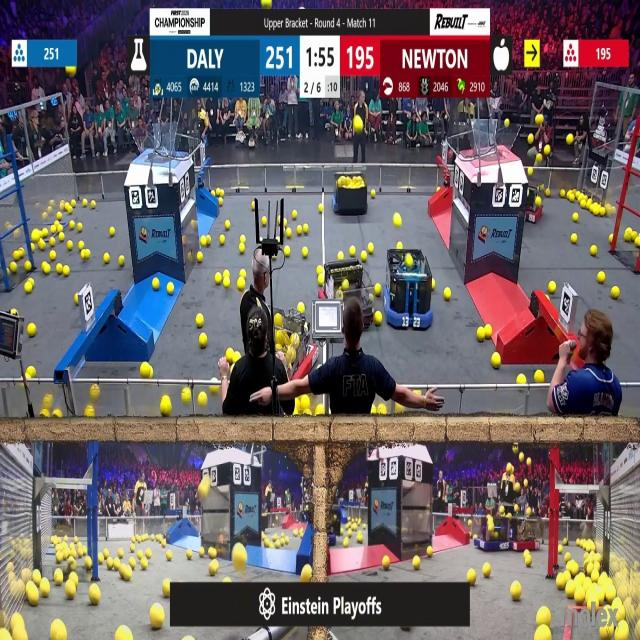ball_airborne: (354, 116, 364, 132), (200, 483, 210, 499), (566, 134, 573, 146), (534, 114, 542, 124), (264, 0, 272, 9), (528, 134, 534, 145), (538, 118, 545, 127), (543, 145, 549, 155), (519, 453, 525, 463), (516, 484, 522, 493), (536, 153, 542, 162), (528, 167, 533, 177), (507, 463, 512, 472), (526, 458, 532, 465), (504, 119, 508, 128), (516, 504, 520, 512), (524, 481, 528, 488), (500, 506, 504, 512)
ball_ground: (90, 586, 102, 606), (536, 609, 549, 627), (302, 564, 313, 583), (162, 398, 172, 418), (512, 583, 522, 601), (140, 362, 151, 377), (181, 388, 191, 404), (66, 583, 76, 599), (40, 582, 50, 598), (162, 580, 170, 598), (198, 392, 208, 406), (574, 590, 583, 605), (467, 568, 475, 584), (209, 561, 218, 575), (200, 334, 208, 349), (56, 569, 64, 584), (492, 353, 500, 368), (534, 371, 543, 384), (484, 563, 492, 577), (606, 588, 614, 602), (393, 213, 401, 227), (28, 323, 36, 336), (611, 286, 619, 299), (414, 556, 421, 570), (383, 556, 390, 570), (225, 348, 232, 362), (374, 313, 382, 325), (86, 557, 94, 569), (525, 554, 532, 567), (238, 279, 246, 290), (209, 548, 217, 559), (32, 231, 40, 242), (70, 571, 78, 582), (375, 284, 382, 296), (486, 324, 492, 338), (518, 376, 526, 386), (87, 408, 95, 418), (80, 249, 88, 259), (356, 533, 364, 543), (487, 329, 493, 342), (235, 350, 241, 363), (42, 264, 49, 275), (26, 262, 32, 274), (26, 281, 32, 293), (113, 558, 119, 570), (349, 246, 356, 256), (592, 571, 599, 581), (141, 560, 148, 570), (63, 267, 70, 277), (591, 245, 597, 256), (168, 283, 174, 294), (598, 273, 604, 284), (152, 279, 158, 290), (427, 545, 433, 556), (571, 234, 577, 245), (567, 191, 574, 200), (104, 253, 110, 263), (222, 278, 228, 288), (167, 552, 173, 562), (38, 240, 44, 250), (303, 248, 309, 258), (297, 304, 303, 314), (57, 266, 63, 276), (216, 274, 222, 284), (367, 242, 372, 254), (10, 264, 16, 274), (291, 210, 297, 220), (108, 558, 114, 568), (58, 222, 64, 232), (54, 411, 62, 418), (41, 410, 48, 418), (118, 255, 123, 266), (68, 241, 74, 250), (117, 549, 123, 558), (130, 558, 136, 567), (284, 247, 290, 256), (344, 538, 350, 547), (361, 251, 366, 261), (200, 548, 205, 558), (296, 224, 301, 234), (560, 188, 566, 196), (60, 234, 66, 242), (240, 270, 246, 278), (138, 551, 144, 559), (430, 281, 436, 289), (240, 244, 245, 253), (304, 224, 309, 233), (202, 237, 207, 246), (187, 551, 192, 560), (222, 272, 229, 278), (218, 199, 223, 207), (49, 238, 54, 246), (78, 241, 83, 249), (82, 200, 87, 208), (241, 236, 246, 244), (220, 237, 224, 246), (252, 202, 256, 211), (131, 543, 136, 550), (224, 220, 228, 228), (93, 201, 97, 209), (370, 190, 374, 198), (147, 550, 151, 558), (104, 550, 108, 558), (71, 202, 76, 208), (608, 235, 612, 242), (544, 188, 548, 195)
goal: (465, 122, 521, 159), (132, 132, 189, 159)
robot_blue: (386, 247, 436, 327), (333, 166, 367, 216), (474, 514, 514, 551)
robot_red: (272, 309, 316, 378), (324, 255, 366, 299), (509, 510, 539, 552), (522, 196, 542, 223)
